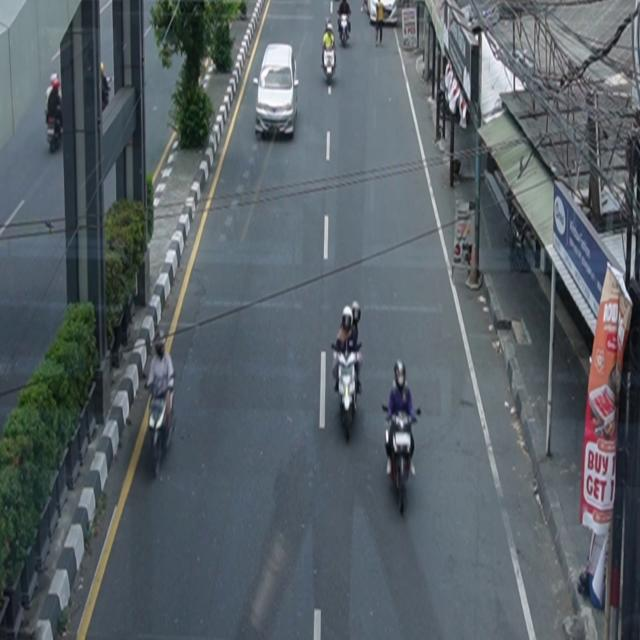car: (254, 44, 300, 140)
